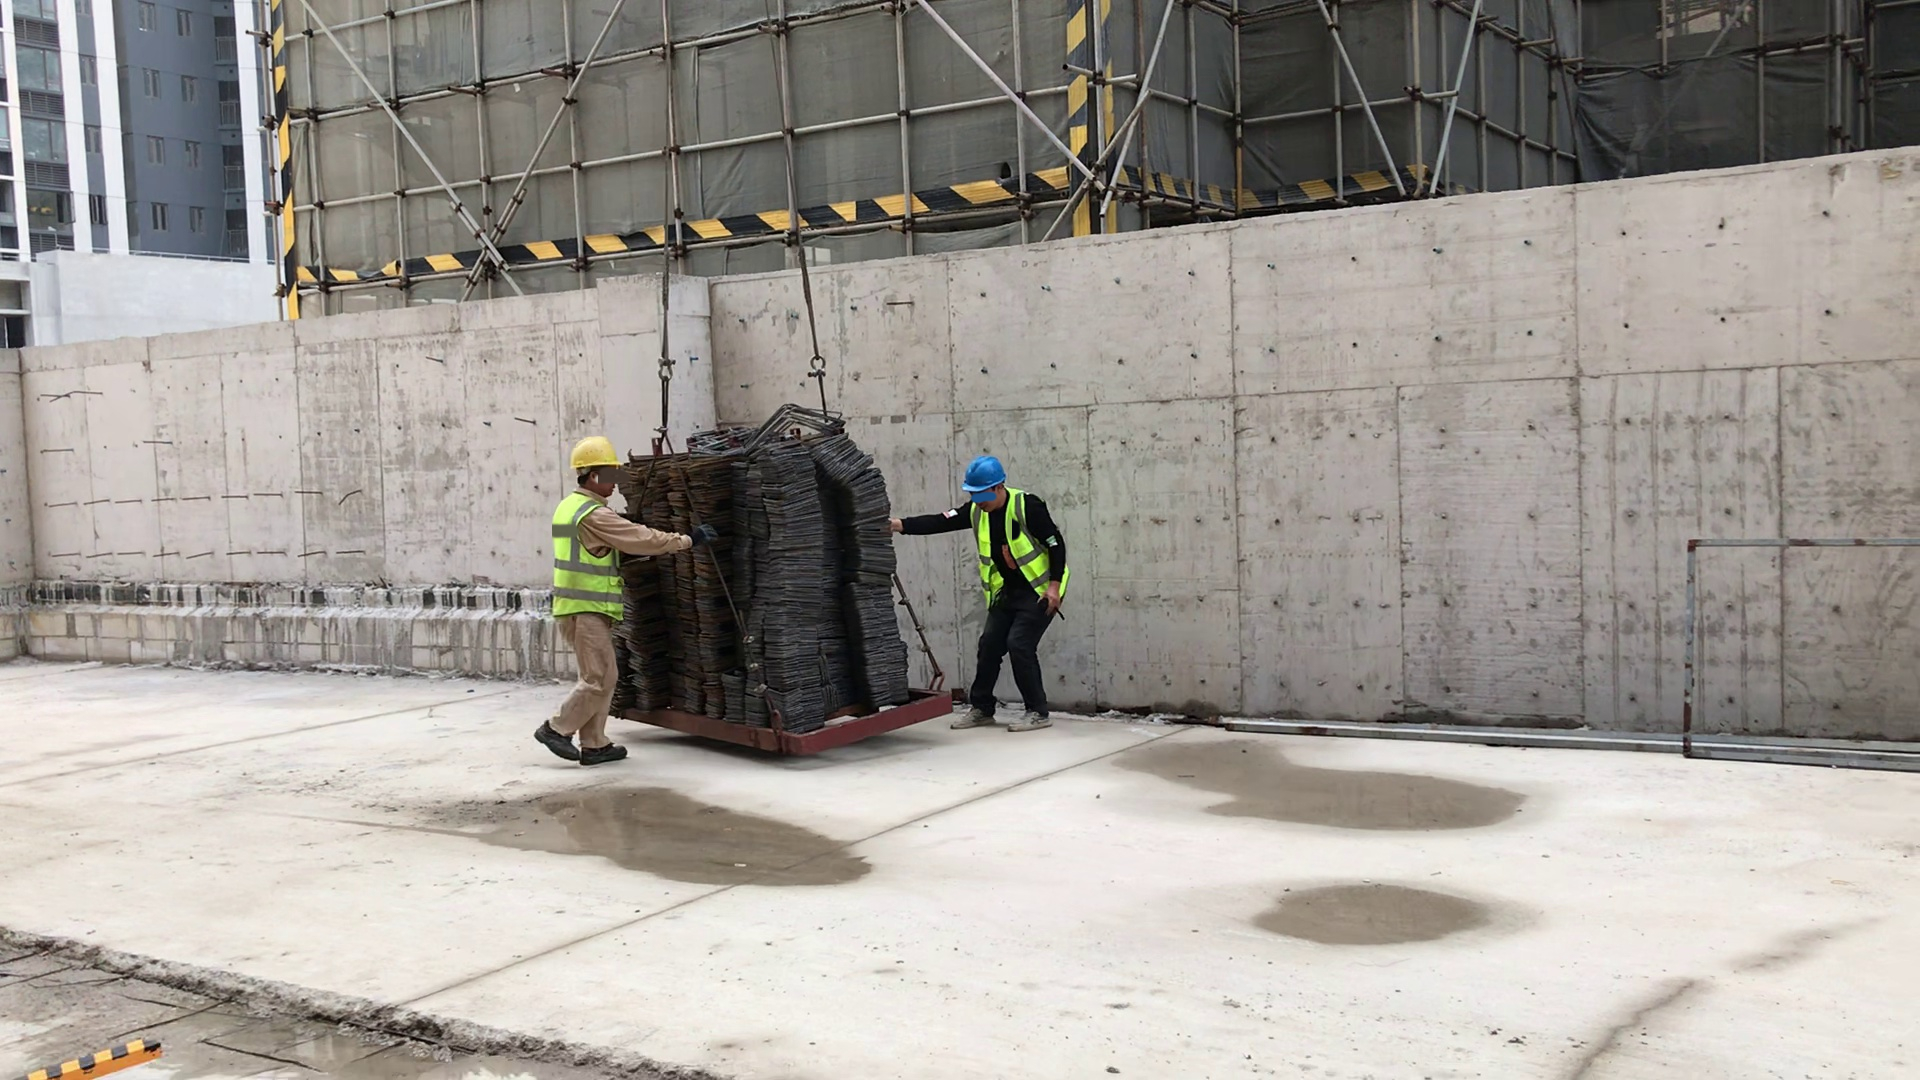helmet: (964, 444, 1024, 501), (570, 430, 621, 475)
person: (910, 447, 1117, 748), (555, 428, 647, 777)
vest: (954, 506, 1075, 594), (548, 493, 627, 612)
